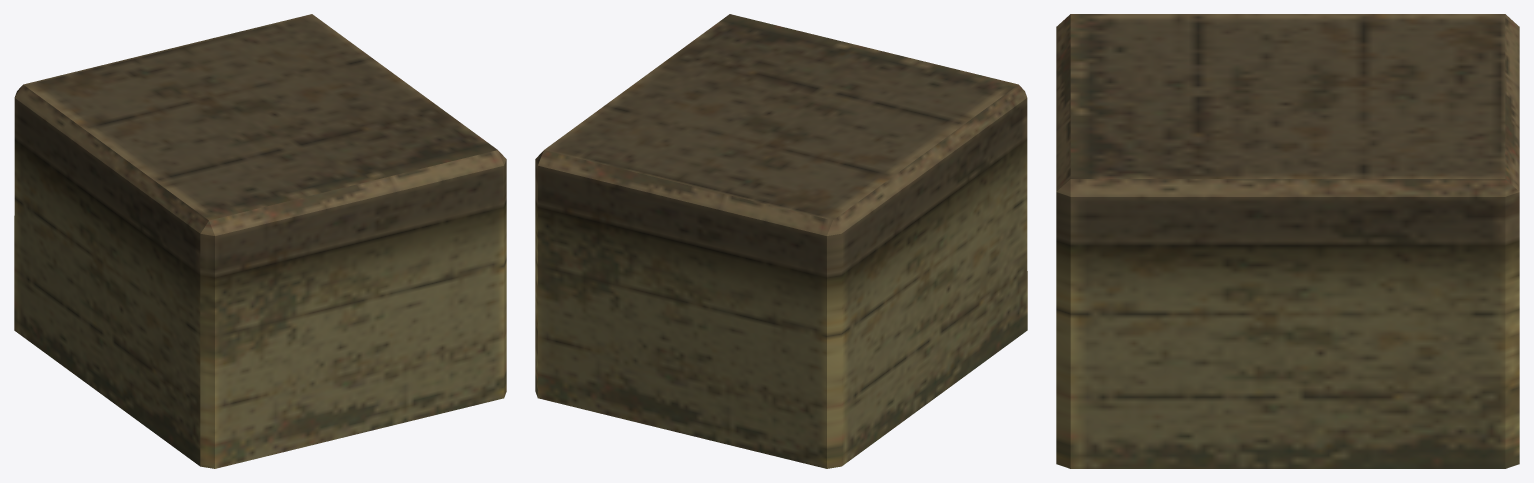
Rendered from TouKuiZheJia_01_xiaomuxiang_01.FBX.
3 views of the same model, side by side, from view 1: azimuth 30°, elevation 25°; view 2: azimuth 150°, elevation 25°; view 3: azimuth 270°, elevation 25° (orthographic). The views are drawn at different scales.
Visible parts, largest first — view 1: TouKuiZheJia_xiaomuxiang_01; view 2: TouKuiZheJia_xiaomuxiang_01; view 3: TouKuiZheJia_xiaomuxiang_01.
Boxes of the visible parts, x1,y1,x2,y2 form: TouKuiZheJia_xiaomuxiang_01: [14, 14, 506, 468]; TouKuiZheJia_xiaomuxiang_01: [535, 14, 1027, 468]; TouKuiZheJia_xiaomuxiang_01: [1056, 14, 1519, 468].
Bounding box in the file's own units: 118 × 89.93 × 132.
